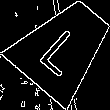L_NE: (35, 18, 93, 76)
